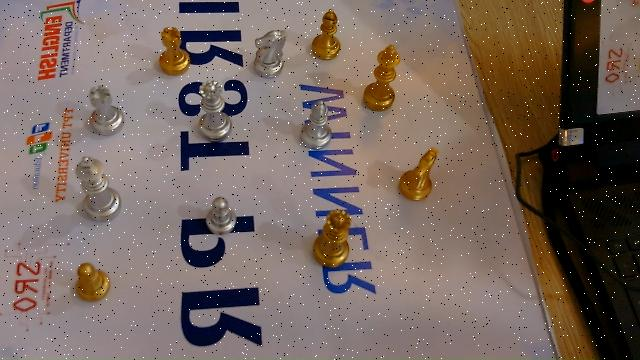black_bishop: (310, 9, 341, 60)
black_king: (363, 45, 400, 111)
black_knight: (399, 148, 439, 201)
black_pawn: (73, 263, 110, 302)
black_queen: (312, 209, 352, 268)
black_rook: (158, 27, 190, 76)
white_bishop: (299, 99, 332, 149)
white_king: (75, 156, 121, 222)
white_knight: (251, 30, 287, 79)
white_pawn: (205, 197, 236, 236)
white_queen: (197, 80, 230, 141)
white_rook: (87, 85, 123, 135)
